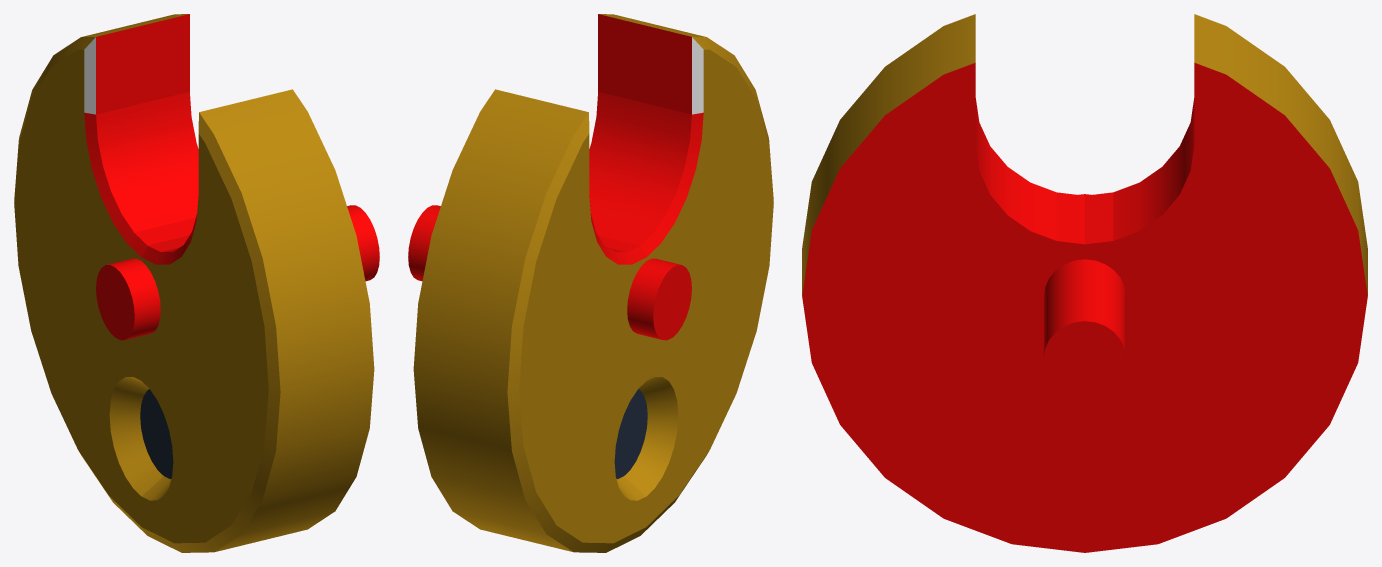
The model's file is spinner2_0.fbx.
The picture shows the model from 3 angles, left to right: view 1: azimuth 30°, elevation 25°; view 2: azimuth 150°, elevation 25°; view 3: azimuth 270°, elevation 25°; orthographic projection. The views are drawn at different scales.
Parts seen in each view (by area): view 1: Group_24_1, Group_24_2, Group2; view 2: Group_24_2, Group_24_1, Group2; view 3: Group_24_1, Group_24_2, Group2.
Part boxes in pixels (x1=…): Group_24_1: x1=141, y1=89, x2=374, y2=552; Group_24_2: x1=14, y1=14, x2=198, y2=534; Group2: x1=96, y1=205, x2=379, y2=340; Group_24_2: x1=413, y1=89, x2=646, y2=552; Group_24_1: x1=589, y1=14, x2=773, y2=534; Group2: x1=408, y1=205, x2=691, y2=340; Group_24_1: x1=802, y1=14, x2=1084, y2=552; Group_24_2: x1=1085, y1=14, x2=1367, y2=552; Group2: x1=1043, y1=194, x2=1126, y2=395.
Size of the model in its own units: 162 by 292 by 305.
